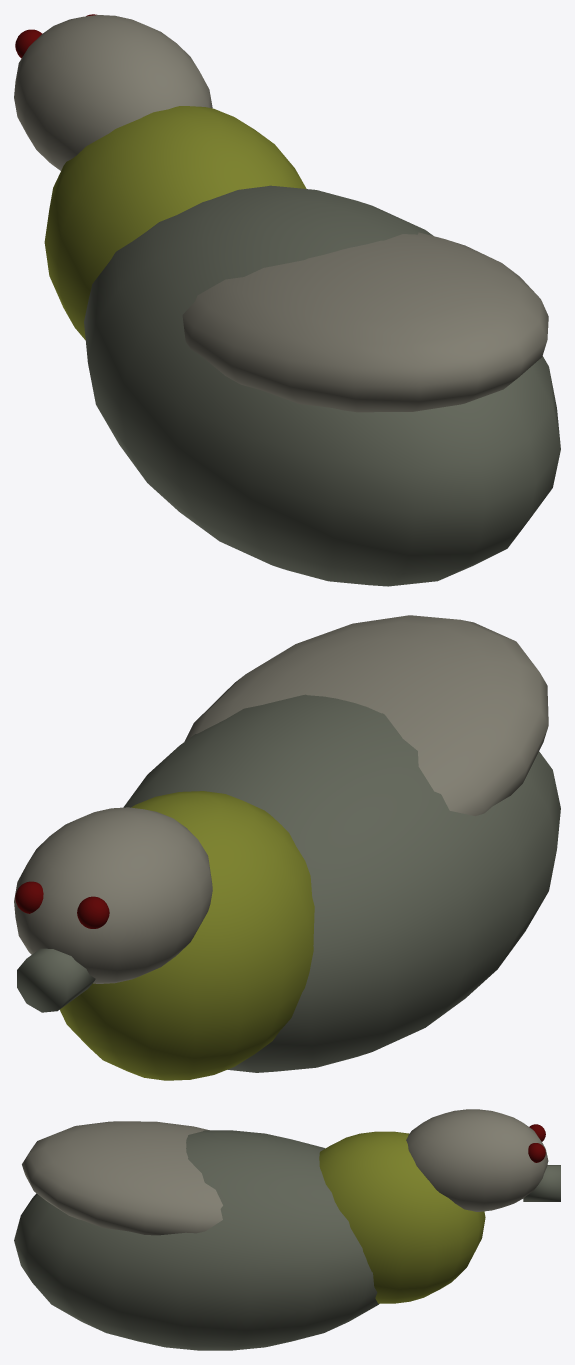
The model's file is spitter_dead.glb.
The picture shows the model from 3 angles, top to bottom: view 1: azimuth 30°, elevation 25°; view 2: azimuth 150°, elevation 25°; view 3: azimuth 270°, elevation 25°; orthographic projection. The views are drawn at different scales.
Parts seen in each view (by area): view 1: Sphere, Sphere.001, Sphere.002, Sphere.003; view 2: Sphere, Sphere.002, Sphere.001, Sphere.003, Cylinder, Sphere.004, Sphere.005; view 3: Sphere, Sphere.001, Sphere.002, Sphere.003, Cylinder.
Part boxes in pixels (x1,y1,x2,y2): Sphere: [84, 185, 560, 586]; Sphere.001: [182, 232, 548, 412]; Sphere.002: [44, 106, 306, 339]; Sphere.003: [14, 15, 212, 170]; Sphere: [123, 694, 560, 1072]; Sphere.002: [60, 791, 314, 1080]; Sphere.001: [184, 615, 548, 816]; Sphere.003: [14, 807, 212, 983]; Cylinder: [17, 948, 95, 1012]; Sphere.004: [77, 896, 109, 928]; Sphere.005: [15, 881, 43, 913]; Sphere: [14, 1130, 379, 1350]; Sphere.001: [22, 1121, 222, 1235]; Sphere.002: [319, 1131, 485, 1303]; Sphere.003: [406, 1109, 548, 1211]; Cylinder: [523, 1165, 560, 1201].
Bounding box in the file's own units: 0.3939 × 0.39 × 0.87.
